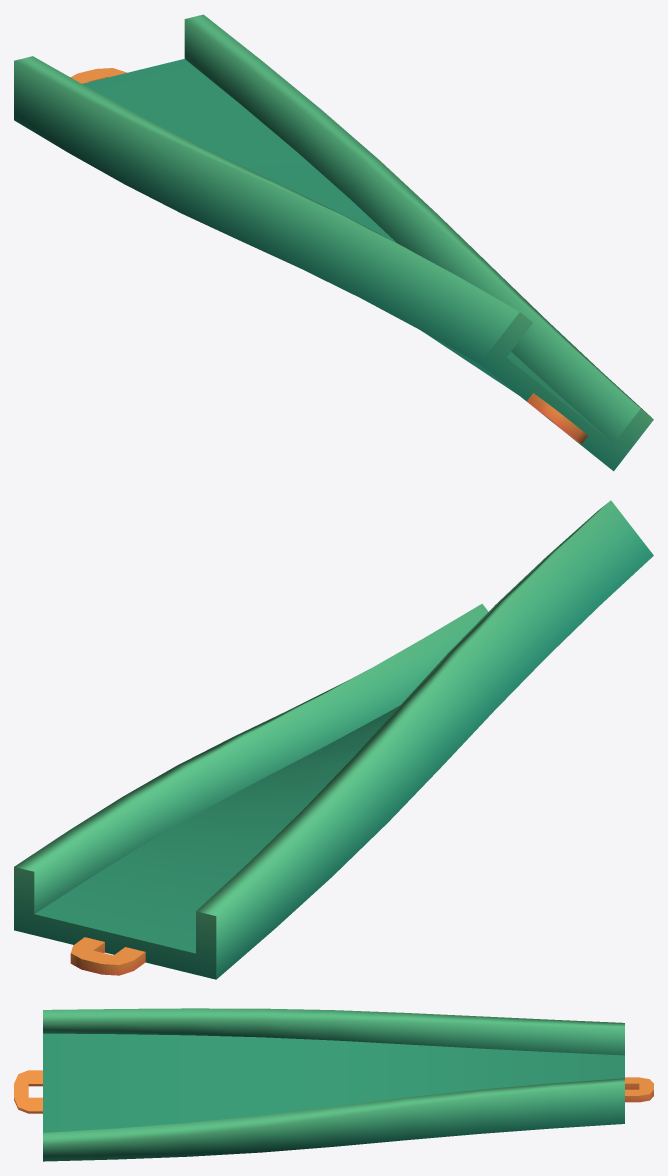
The model's file is track-narrow-straight-skew-left.fbx.
The picture shows the model from 3 angles, top to bottom: view 1: azimuth 30°, elevation 25°; view 2: azimuth 150°, elevation 25°; view 3: azimuth 270°, elevation 25°; orthographic projection. The views are drawn at different scales.
Parts seen in each view (by area): view 1: track-narrow-straight-skew-left; view 2: track-narrow-straight-skew-left; view 3: track-narrow-straight-skew-left.
Part boxes in pixels (bbox=[...]): track-narrow-straight-skew-left: bbox=[14, 14, 653, 471]; track-narrow-straight-skew-left: bbox=[14, 500, 653, 979]; track-narrow-straight-skew-left: bbox=[14, 1008, 653, 1161].
Size of the model in its own units: 108 by 91.92 by 440.
